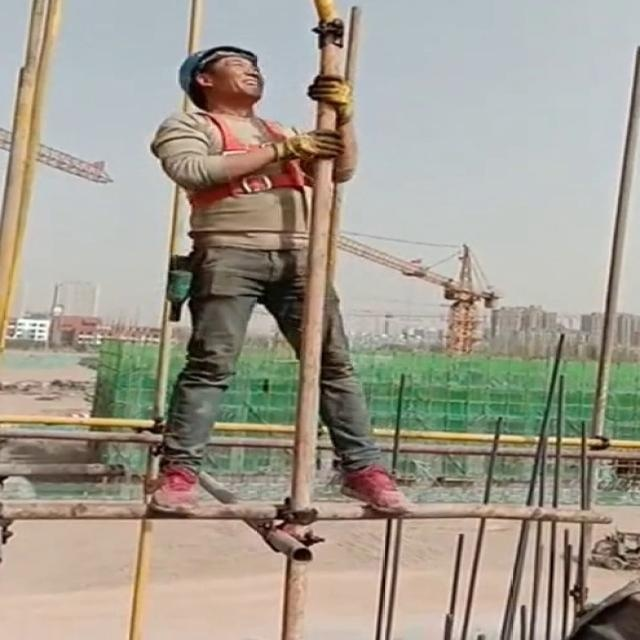Arnes_seguridad: (176, 101, 313, 213)
